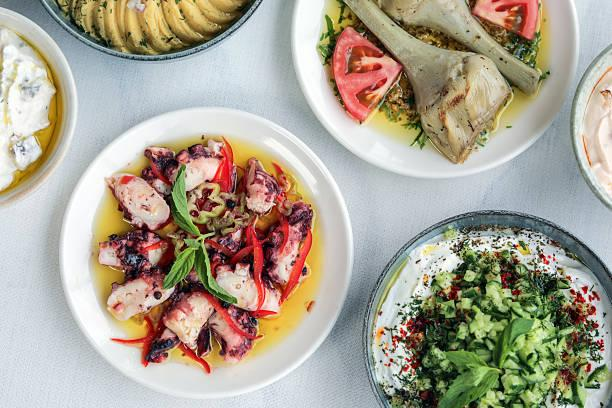Braised Crucian Carp: (55, 104, 355, 401), (291, 0, 576, 181), (361, 209, 612, 408)
